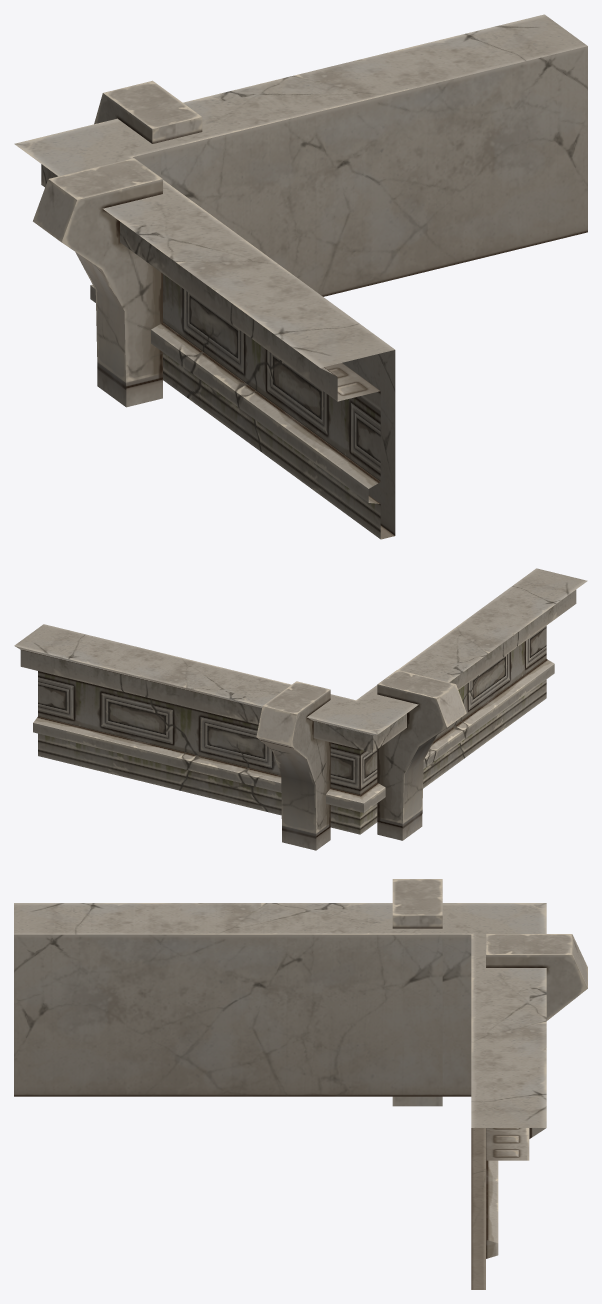
The model's file is cornice03_corner.fbx.
The picture shows the model from 3 angles, top to bottom: view 1: azimuth 30°, elevation 25°; view 2: azimuth 150°, elevation 25°; view 3: azimuth 270°, elevation 25°; orthographic projection. The views are drawn at different scales.
Parts seen in each view (by area): view 1: cornice03_corner; view 2: cornice03_corner; view 3: cornice03_corner.
Boxes of the visible parts, box(x1,y1,x2,y2) form: cornice03_corner: box(14, 14, 587, 539); cornice03_corner: box(14, 568, 587, 850); cornice03_corner: box(14, 879, 587, 1289).
Size of the model in its own units: 402 by 147 by 402.
